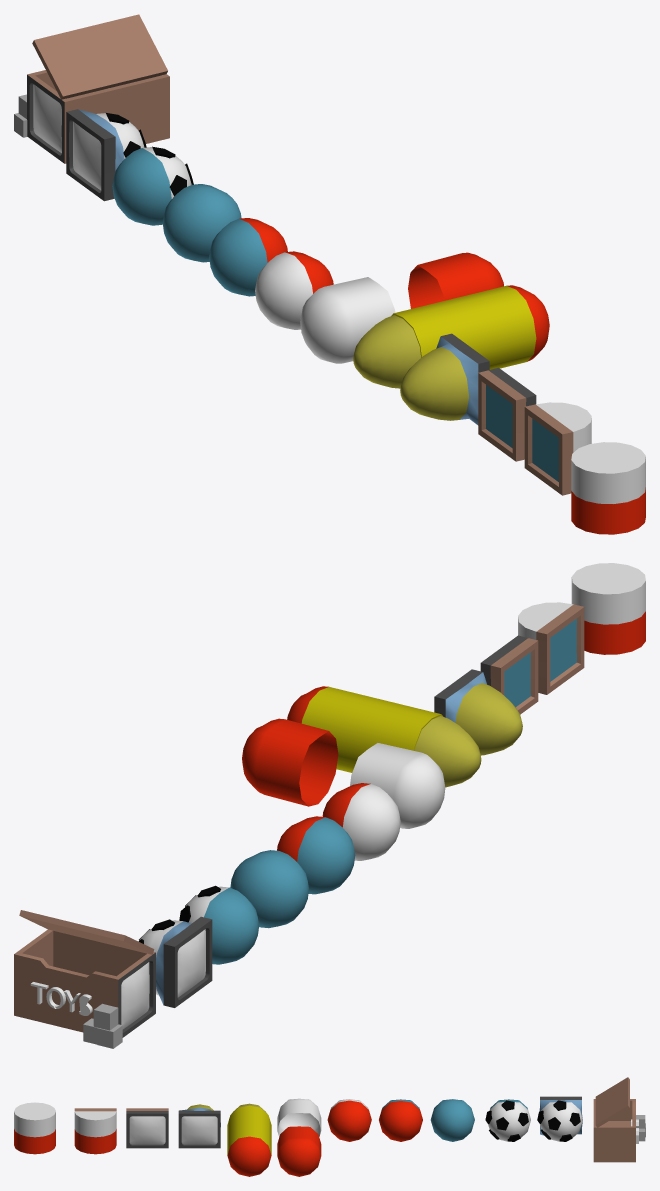
File: GameAssets.fbx
3 views of the same model, one above another, from view 1: azimuth 30°, elevation 25°; view 2: azimuth 150°, elevation 25°; view 3: azimuth 270°, elevation 25° (orthographic). The views are drawn at different scales.
Visible parts, largest first — view 1: polySurface31, polySurface2, polySurface3, polySurface38, polySurface25, polySurface33, polySurface37, polySurface28, polySurface21, polySurface22, polySurface20, polySurface23 (+2 smaller); view 2: polySurface3, polySurface31, polySurface26, polySurface38, polySurface25, polySurface28, polySurface33, polySurface37, polySurface21, polySurface22, polySurface23, polySurface20 (+3 smaller); view 3: polySurface31, polySurface3, polySurface38, polySurface37, polySurface26, polySurface33, polySurface35, polySurface23, polySurface21, polySurface22, polySurface28, polySurface25 (+4 smaller).
Boxes of the visible parts, box(x1,y1,x2,y2) form: polySurface31: box(353, 285, 549, 388); polySurface2: box(32, 14, 167, 99); polySurface3: box(27, 70, 169, 163); polySurface38: box(571, 442, 645, 534); polySurface25: box(300, 277, 395, 363); polySurface33: box(400, 333, 489, 425); polySurface37: box(524, 402, 591, 495); polySurface28: box(66, 109, 144, 201); polySurface21: box(162, 184, 241, 262); polySurface22: box(209, 218, 287, 296); polySurface20: box(112, 147, 191, 225); polySurface23: box(255, 251, 333, 329); polySurface3: box(14, 929, 155, 1037); polySurface31: box(287, 686, 481, 787); polySurface26: box(242, 718, 338, 806); polySurface38: box(571, 563, 645, 654); polySurface25: box(350, 743, 445, 828); polySurface28: box(139, 916, 212, 1007); polySurface33: box(434, 669, 522, 755); polySurface37: box(518, 602, 584, 694); polySurface21: box(230, 850, 308, 928); polySurface22: box(277, 816, 355, 894); polySurface23: box(322, 783, 400, 860); polySurface20: box(185, 886, 259, 964); polySurface31: box(227, 1103, 271, 1176); polySurface3: box(593, 1099, 635, 1162); polySurface38: box(14, 1102, 55, 1154); polySurface37: box(74, 1108, 116, 1154); polySurface26: box(277, 1126, 321, 1176); polySurface33: box(178, 1104, 220, 1148); polySurface35: box(126, 1108, 168, 1148); polySurface23: box(327, 1099, 371, 1141); polySurface21: box(430, 1099, 474, 1141); polySurface22: box(379, 1099, 422, 1141); polySurface28: box(539, 1096, 582, 1141); polySurface25: box(277, 1098, 321, 1136).
Size of the model in its own units: 238 by 126 by 1204.
